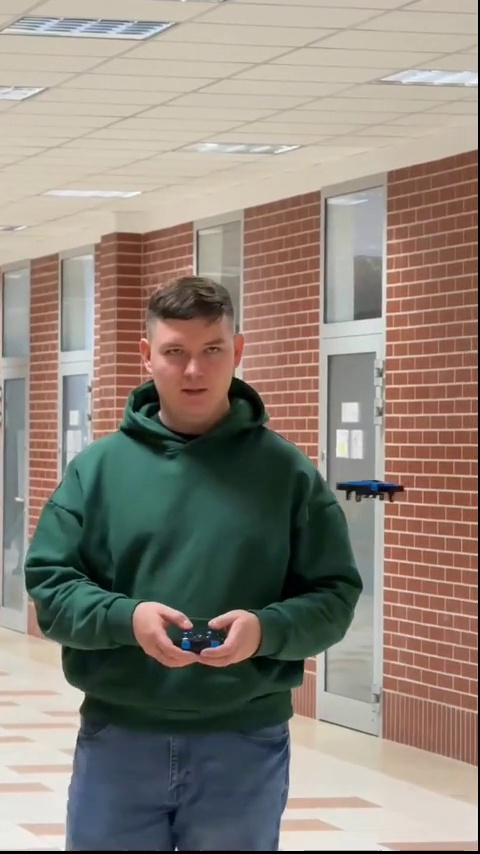drone: (335, 477, 410, 507)
no vest: (35, 280, 362, 826)
